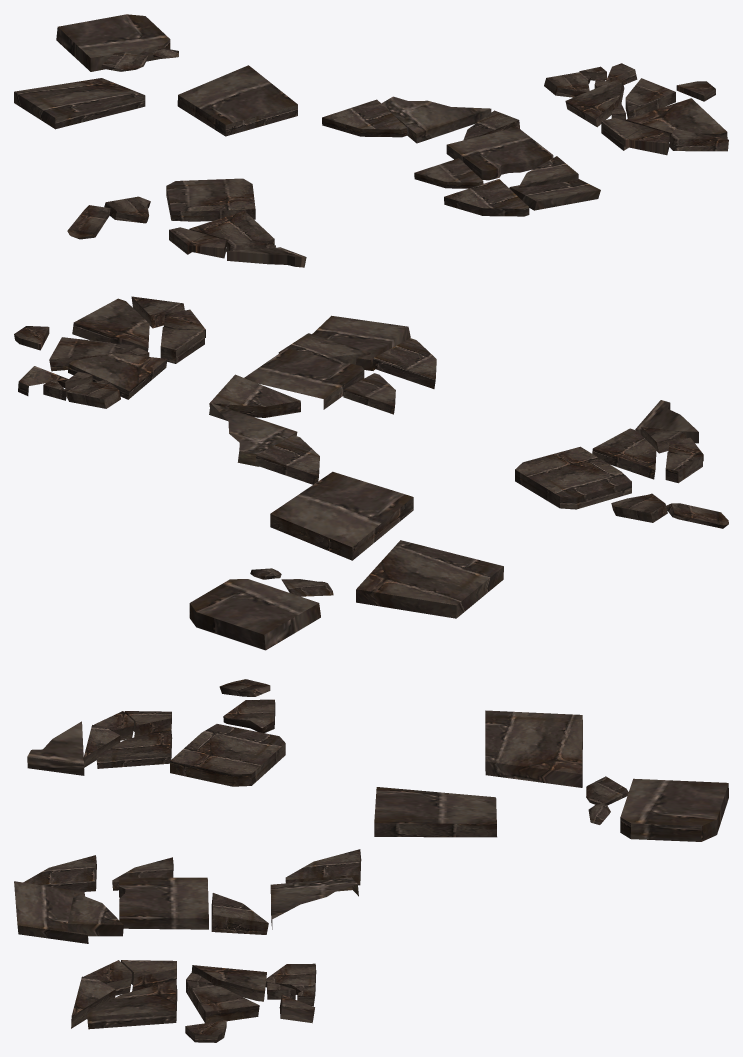
Rendered from rysd_suiqiang_01.FBX.
The picture shows the model from 3 angles, top to bottom: view 1: azimuth 30°, elevation 25°; view 2: azimuth 150°, elevation 25°; view 3: azimuth 270°, elevation 25°; orthographic projection. The views are drawn at different scales.
Parts seen in each view (by area): view 1: zshh_podiban_02, zshh_podiban_04, zshh_podiban_01, zshh_podiban_03, zshh_podiban_06, zshh_podiban_05; view 2: zshh_podiban_02, zshh_podiban_04, zshh_podiban_01, zshh_podiban_03, zshh_podiban_05, zshh_podiban_06; view 3: zshh_podiban_02, zshh_podiban_01, zshh_podiban_04, zshh_podiban_06, zshh_podiban_05, zshh_podiban_03.
Boxes of the visible parts, x1,y1,x2,y2 form: zshh_podiban_02: (322,96,600,216); zshh_podiban_04: (544,63,728,155); zshh_podiban_01: (67,178,306,267); zshh_podiban_03: (177,65,297,136); zshh_podiban_06: (56,14,178,71); zshh_podiban_05: (14,78,145,129); zshh_podiban_02: (209,315,436,484); zshh_podiban_04: (14,296,205,408); zshh_podiban_01: (515,400,728,528); zshh_podiban_03: (270,471,413,560); zshh_podiban_05: (356,540,503,618); zshh_podiban_06: (189,568,333,650); zshh_podiban_02: (14,849,361,943); zshh_podiban_01: (27,679,285,786); zshh_podiban_04: (71,960,316,1042); zshh_podiban_06: (586,776,728,841); zshh_podiban_05: (485,710,582,787); zshh_podiban_03: (374,787,496,837).
Size of the model in its own units: 2172 by 98.67 by 1811.
